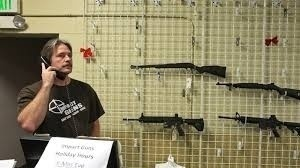pistol: (123, 102, 208, 142), (215, 113, 300, 138), (131, 59, 228, 80), (215, 80, 299, 103)
